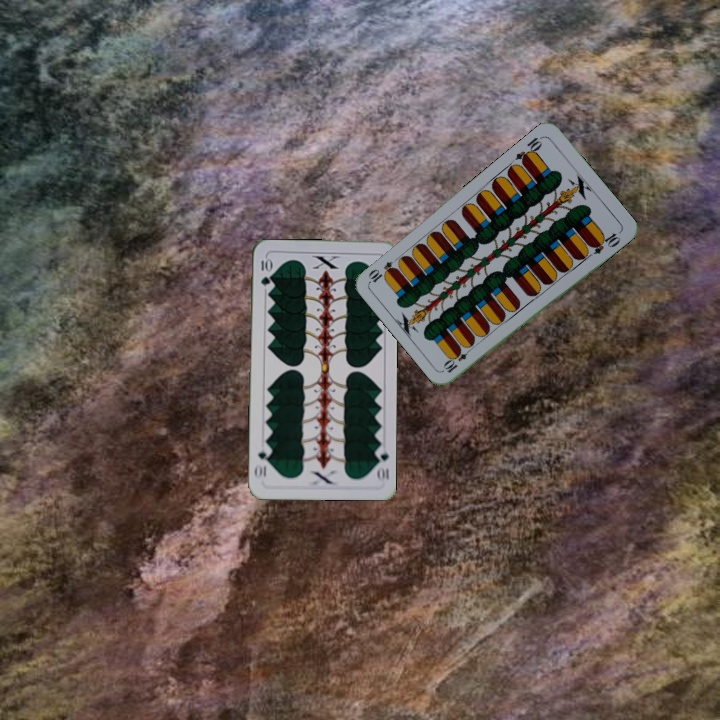E10: (511, 132, 546, 167), (440, 342, 475, 375)
G10: (372, 443, 392, 484), (257, 254, 272, 288)
